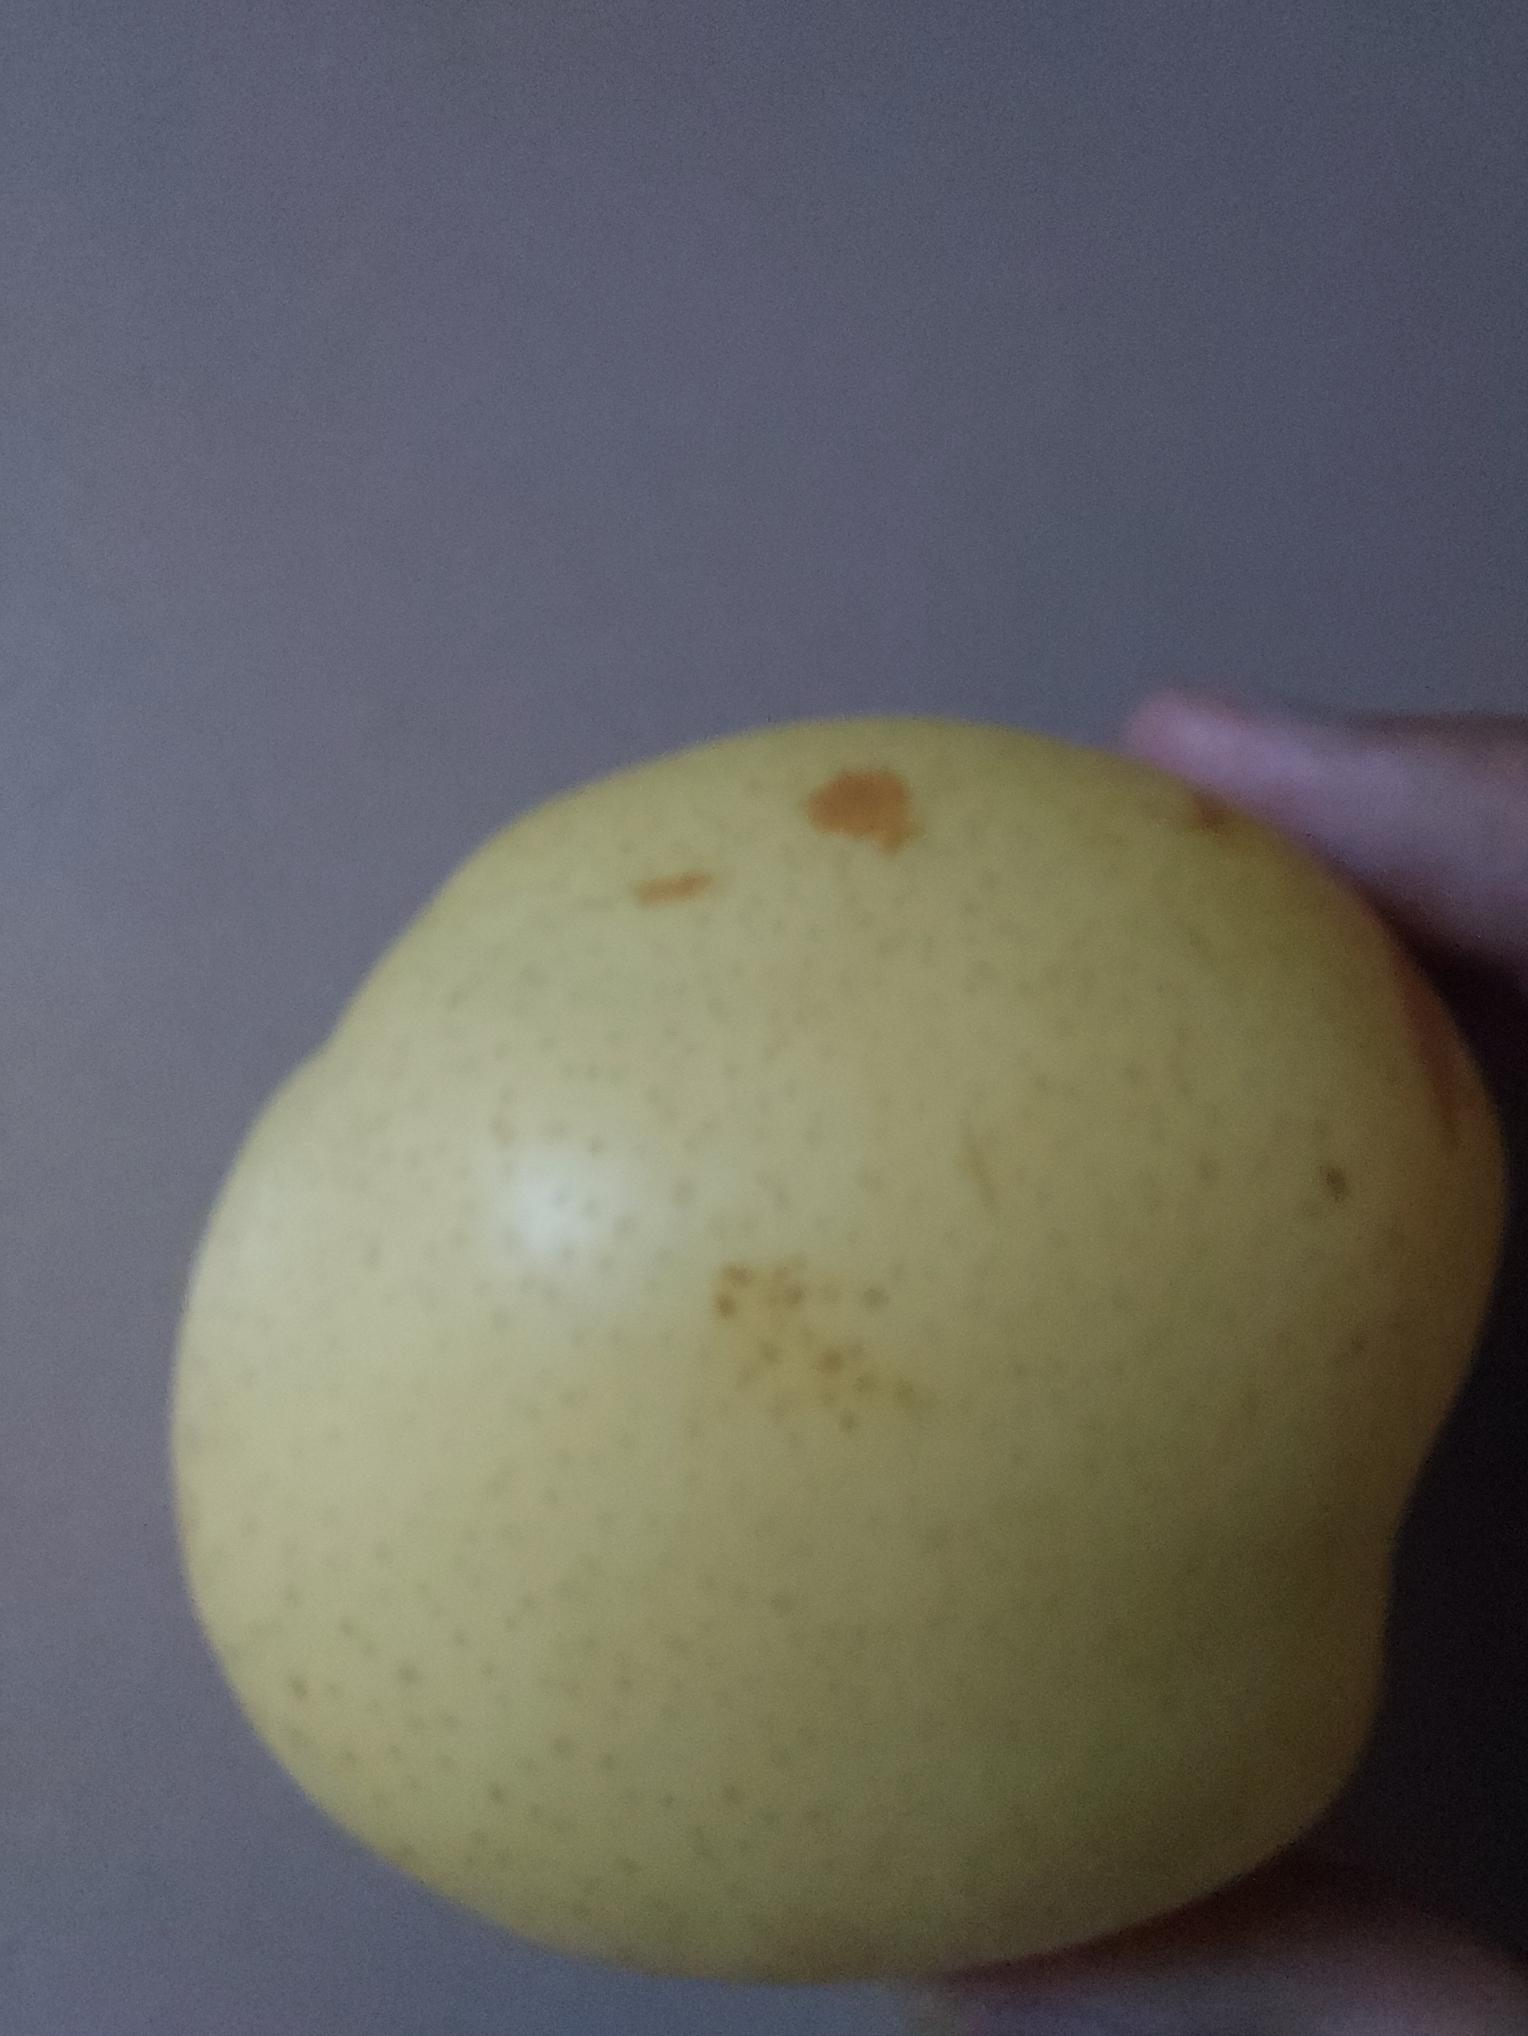Good Pear: (161, 696, 1496, 1960)
